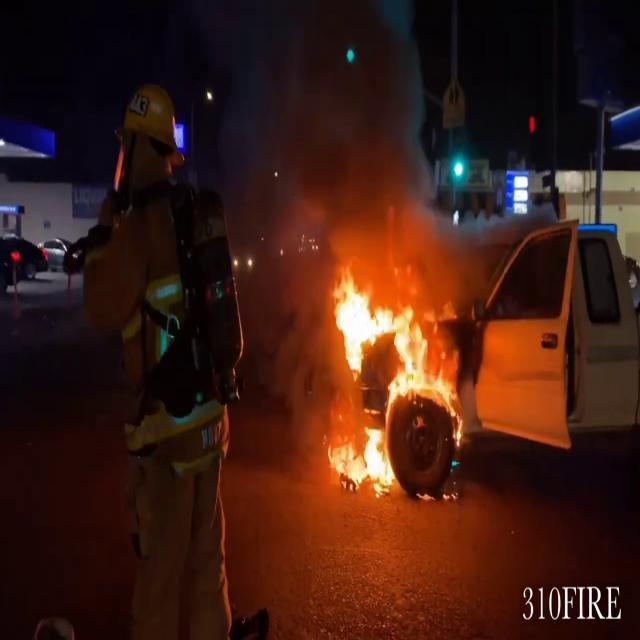Fire: (320, 265, 458, 498)
Smoke: (210, 0, 449, 292)
